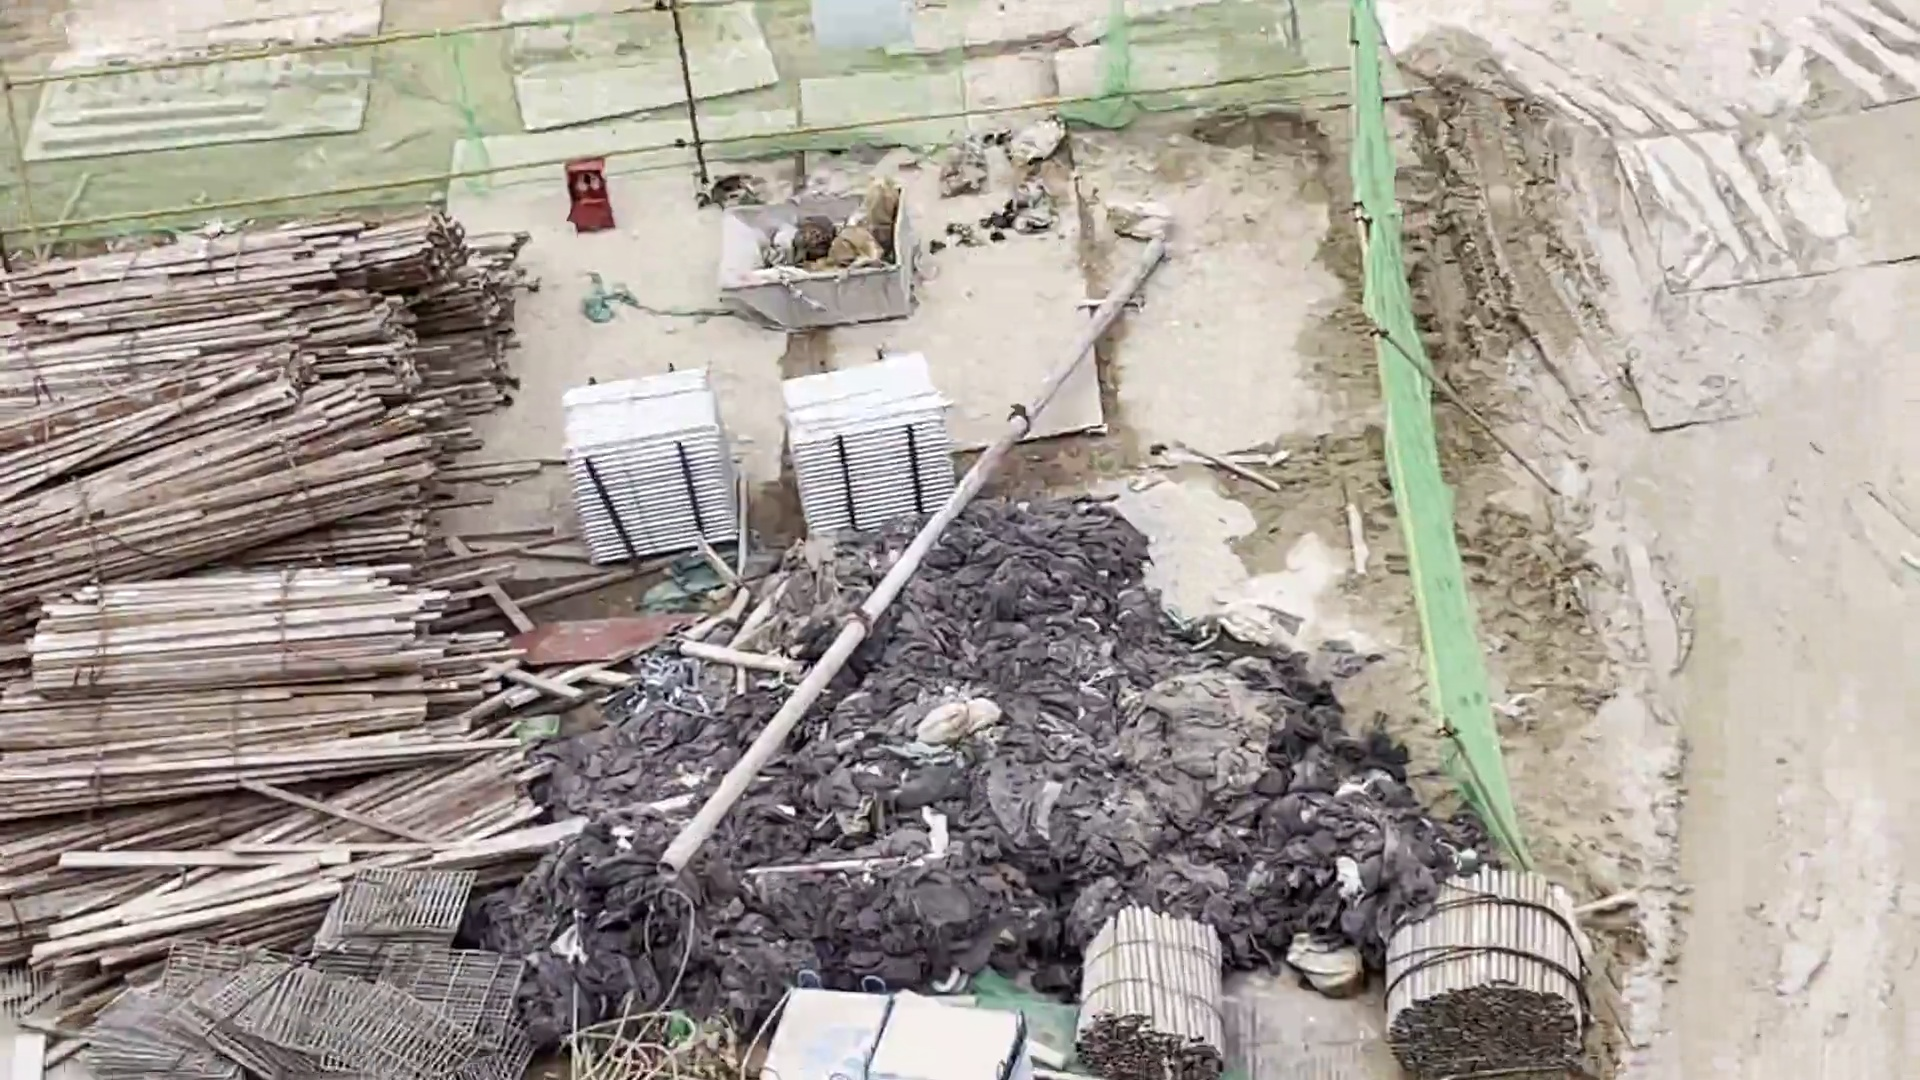scaffold: (1382, 872, 1592, 1073), (555, 372, 756, 550), (773, 360, 960, 541), (1067, 914, 1244, 1079)
wood: (9, 232, 495, 568), (3, 578, 546, 872)
